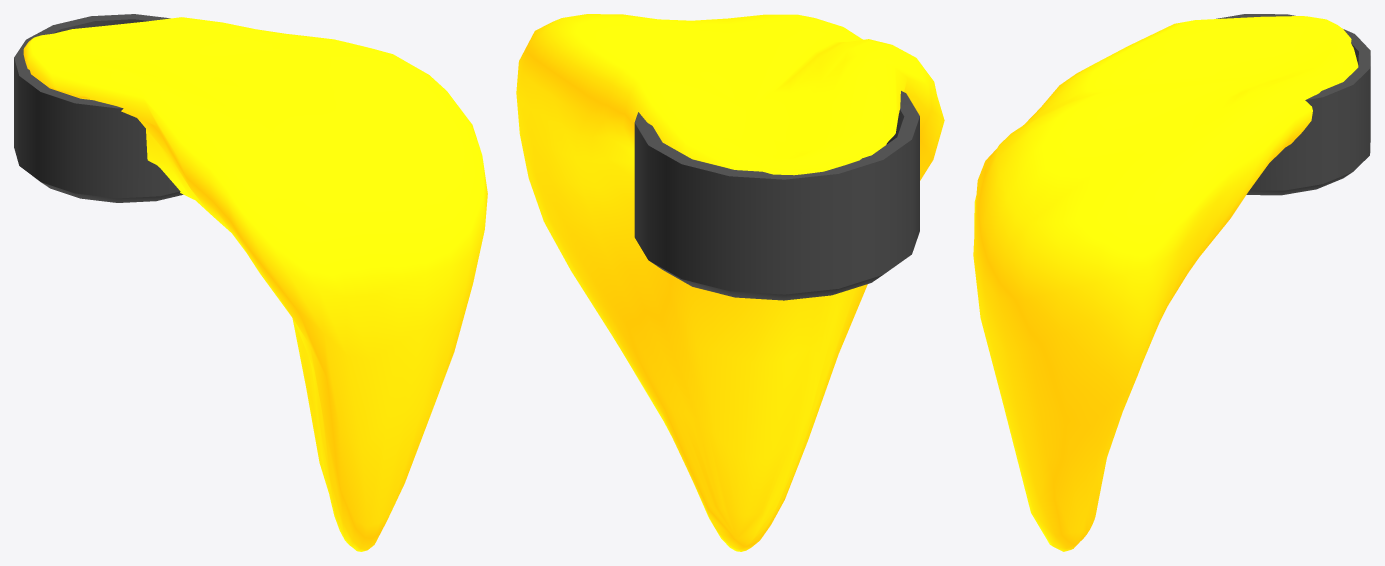
File: CauldronGoop.fbx
3 views of the same model, side by side, from view 1: azimuth 30°, elevation 25°; view 2: azimuth 150°, elevation 25°; view 3: azimuth 270°, elevation 25° (orthographic). The views are drawn at different scales.
Parts seen in each view (by area): view 1: GoopHeat, Cauldron; view 2: GoopHeat, Cauldron; view 3: GoopHeat, Cauldron.
Boxes of the visible parts, x1,y1,x2,y2 form: GoopHeat: (23, 17, 487, 551); Cauldron: (14, 14, 183, 202); GoopHeat: (516, 14, 944, 551); Cauldron: (634, 91, 919, 300); GoopHeat: (973, 16, 1358, 551); Cauldron: (1216, 14, 1370, 195).
Size of the model in its own units: 191 by 235 by 187.
